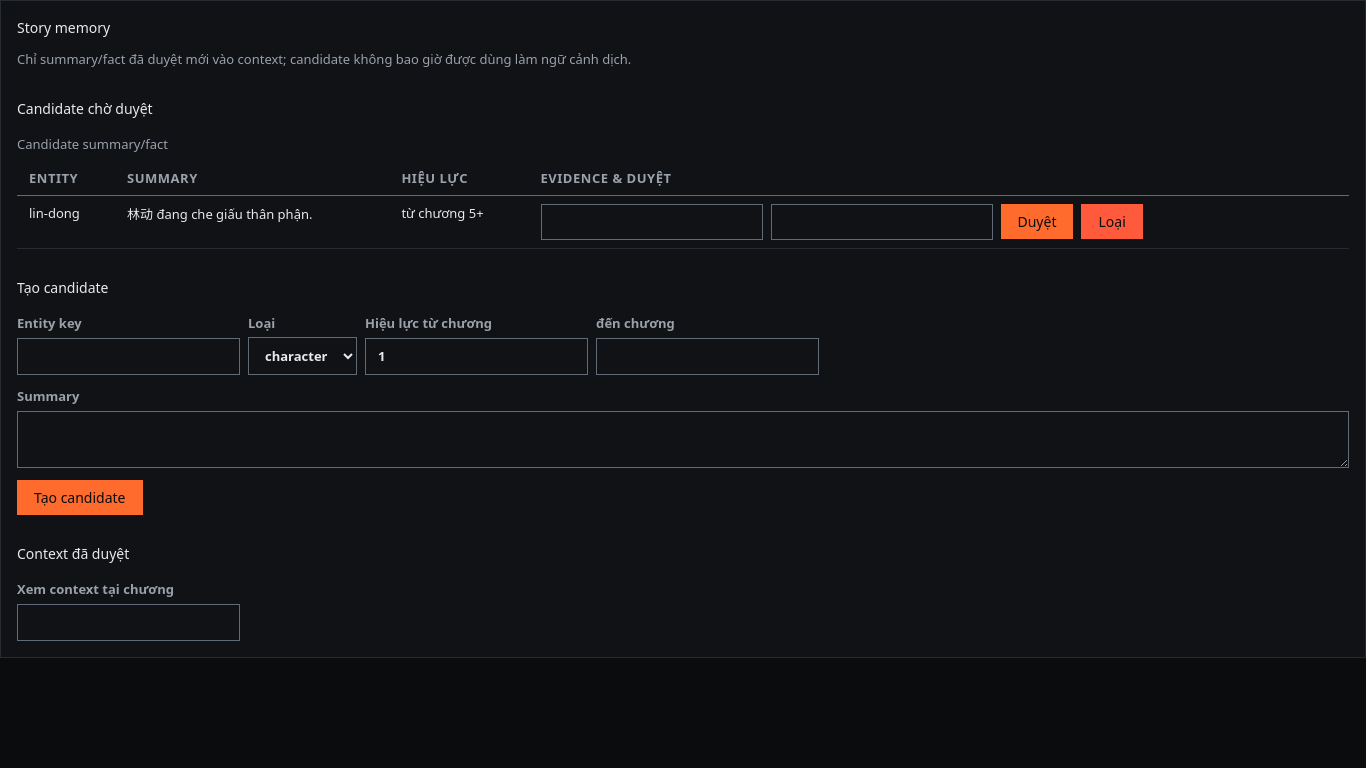
Test case: MemoryManager (U09 part 4) › surfaces approval errors as alerts
Expected: the button "Duyệt" is shown, [1000,204,1074,239]
Type "run-x" into the field named "Run id cho lin-dong" at (652, 222), box [540,204,762,240]
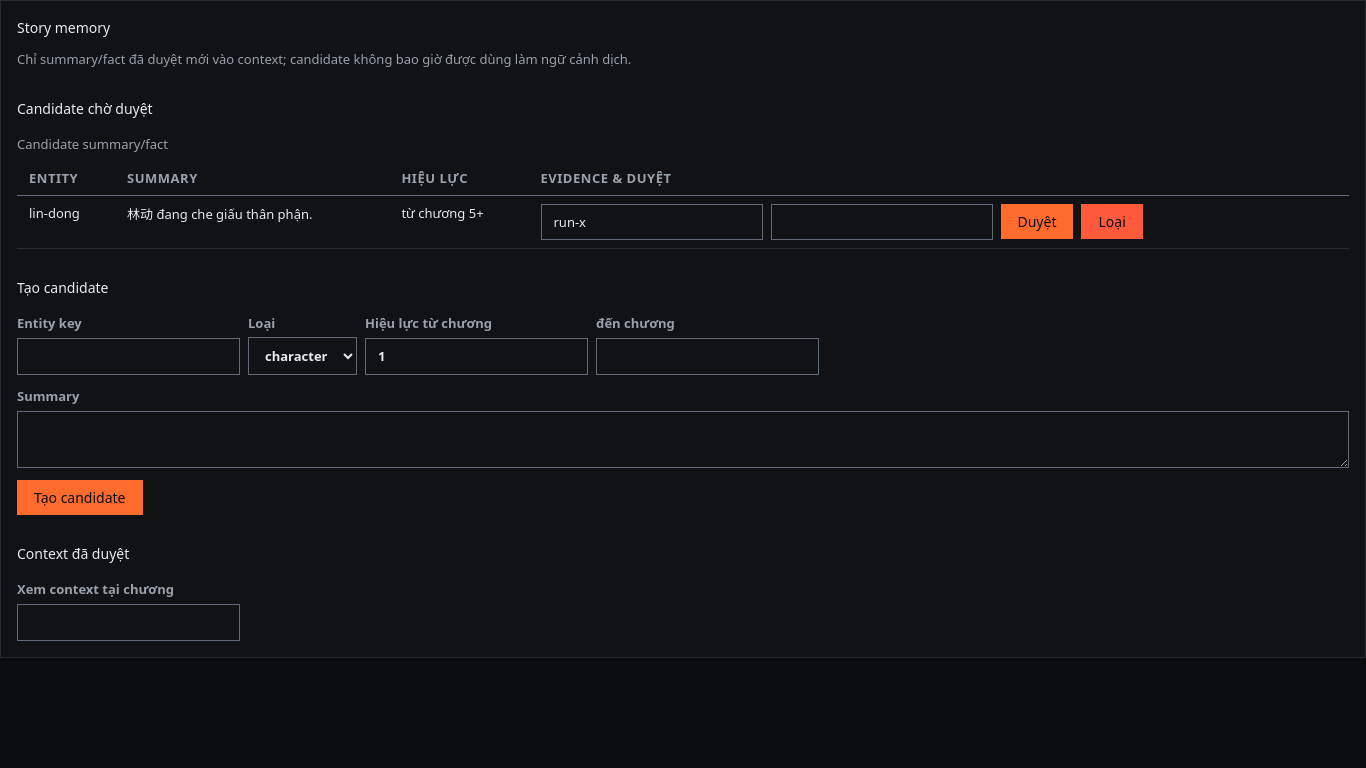
Type "seg-9" into the field named "Segment ids cho lin-dong" at (882, 222), box [770,204,992,240]
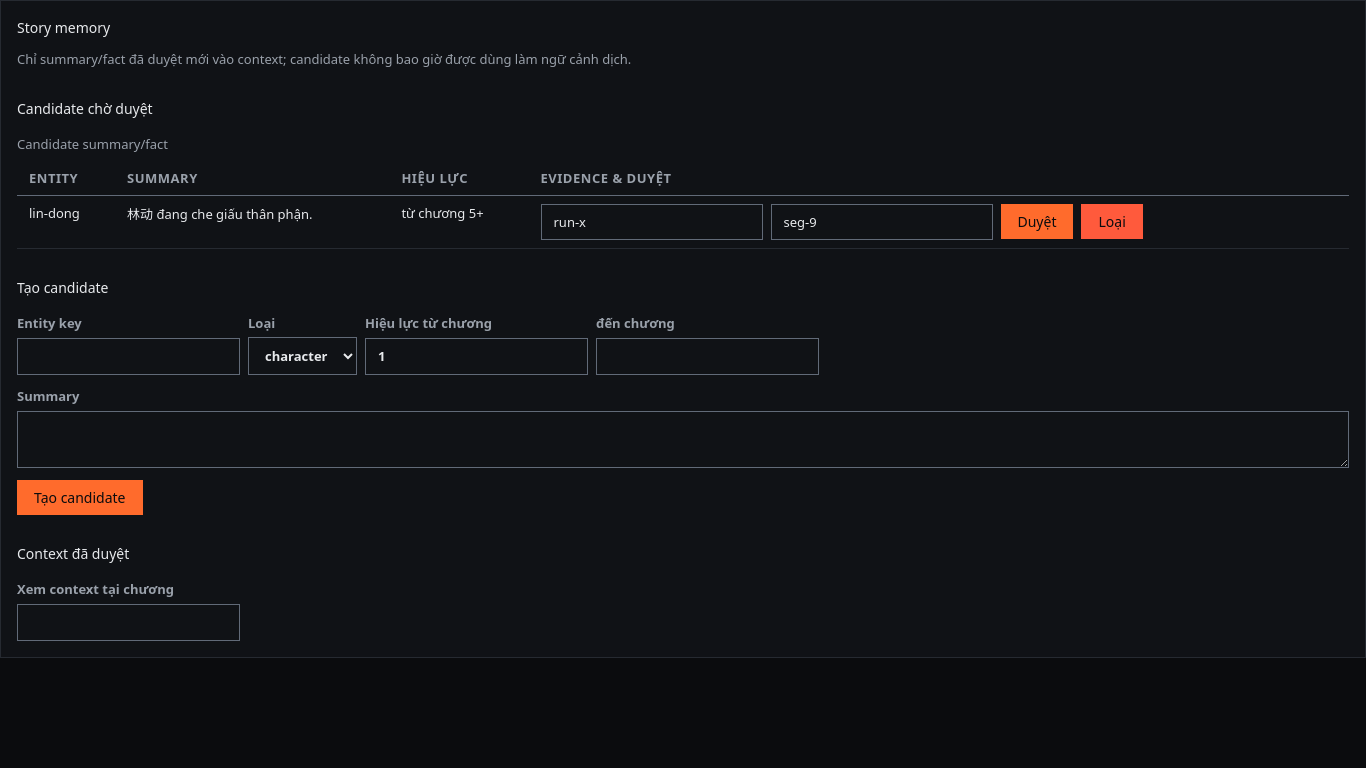
Click the button "Duyệt" at (1037, 222), box [1000,204,1074,239]
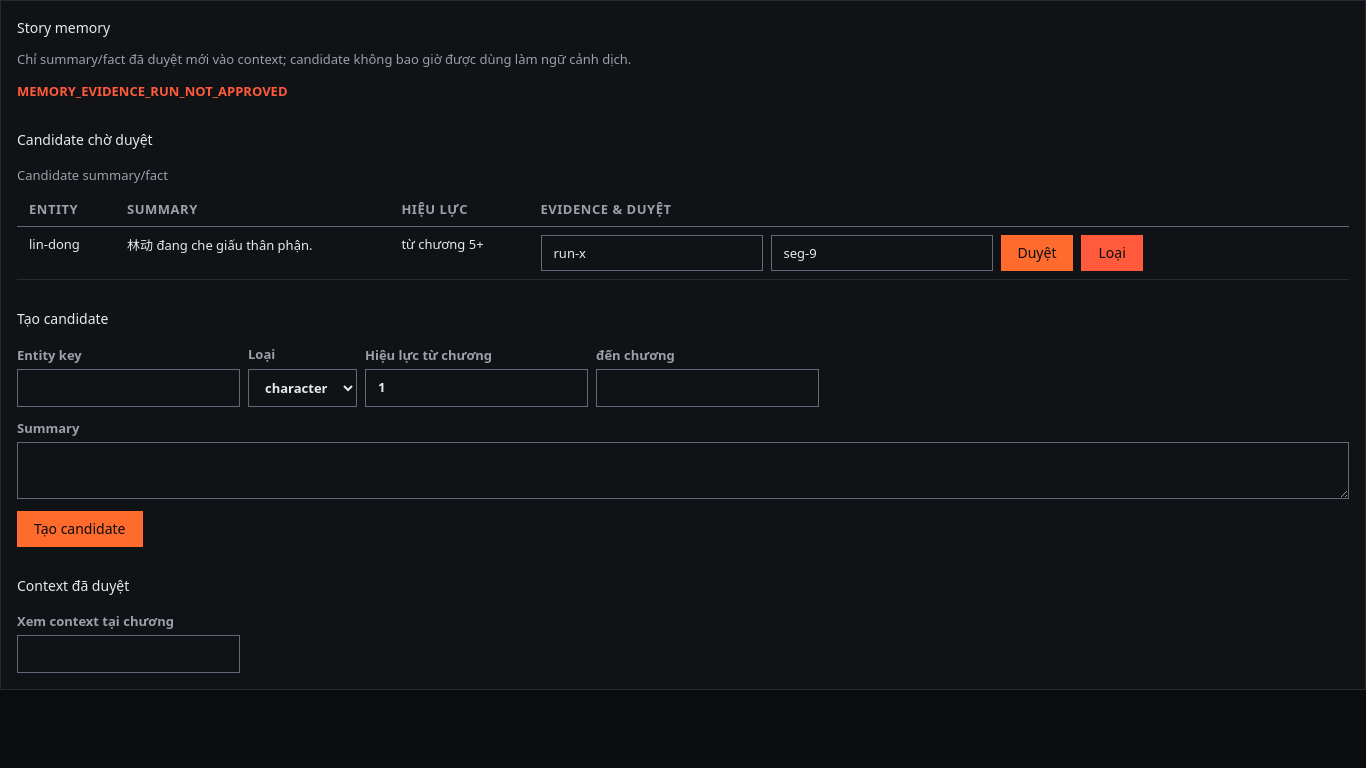
Expected: the message reads "MEMORY_EVIDENCE_RUN_NOT_APPROVED", [17,82,288,100]
